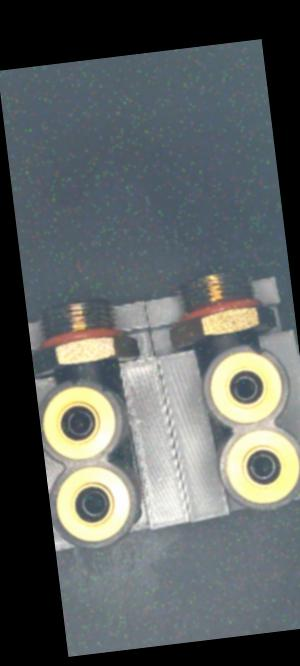bump: (236, 335, 274, 361), (61, 373, 88, 390), (95, 375, 116, 396)
